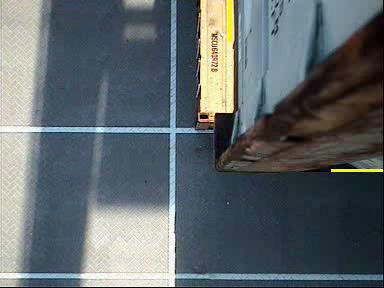groundmarker_2: (40, 46, 145, 147)
